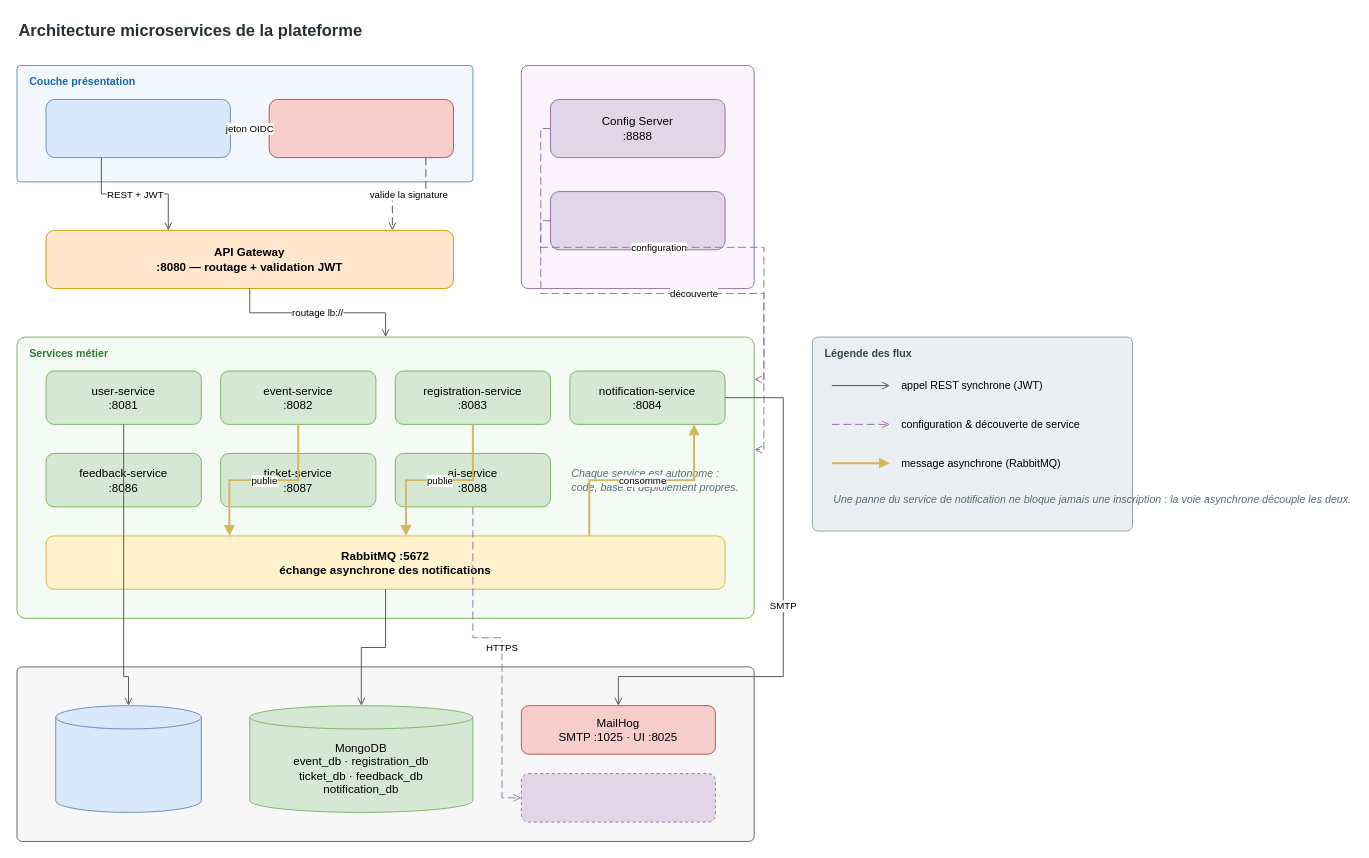
The diagram is 1369 pixels wide and 858 high, and some of its shapes have lost their labels. The shapes that lost their labels are listed below. From the top down, each one's box as (x1, y1, x2, y2) in pixels, then its label:
(45, 98, 230, 158): Navigateur Angular 17 (SPA)
(268, 98, 453, 158): Keycloak 23 realm pfe-events · OIDC
(520, 65, 754, 289): Socle Spring Cloud
(550, 191, 725, 250): Eureka :8761 — découverte
(55, 705, 201, 812): PostgreSQL user_db
(16, 666, 754, 841): Persistance polyglotte
(520, 773, 715, 822): Google Gemini API externe
